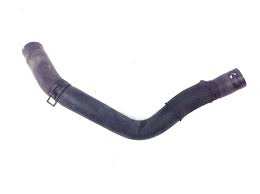radiator_hose: (23, 43, 246, 140)
